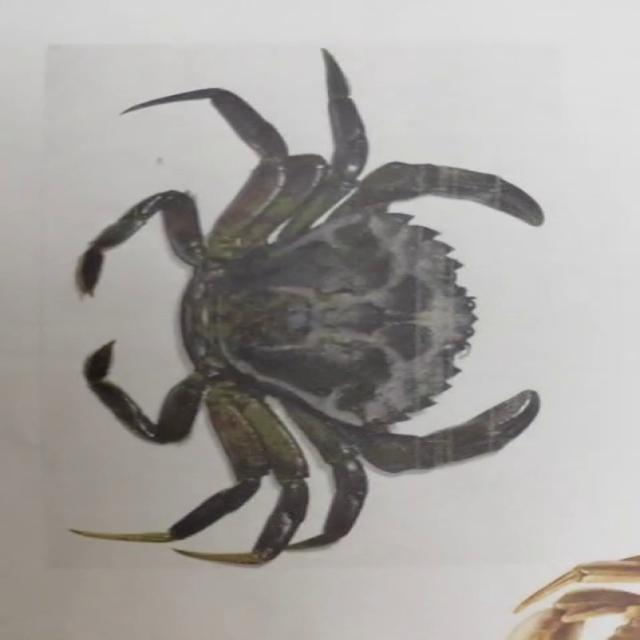egc: (75, 50, 542, 565)
